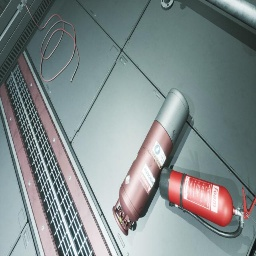FireExtinguisher ]: (159, 167, 256, 238)
NitrogenTank ,: (112, 88, 190, 236)
